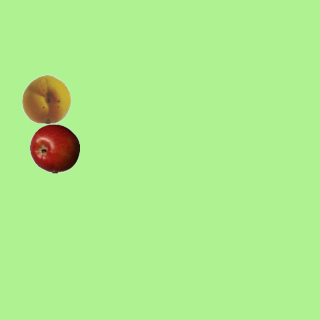Apple Braeburn: (29, 123, 79, 173)
Peach 2: (21, 73, 71, 123)
